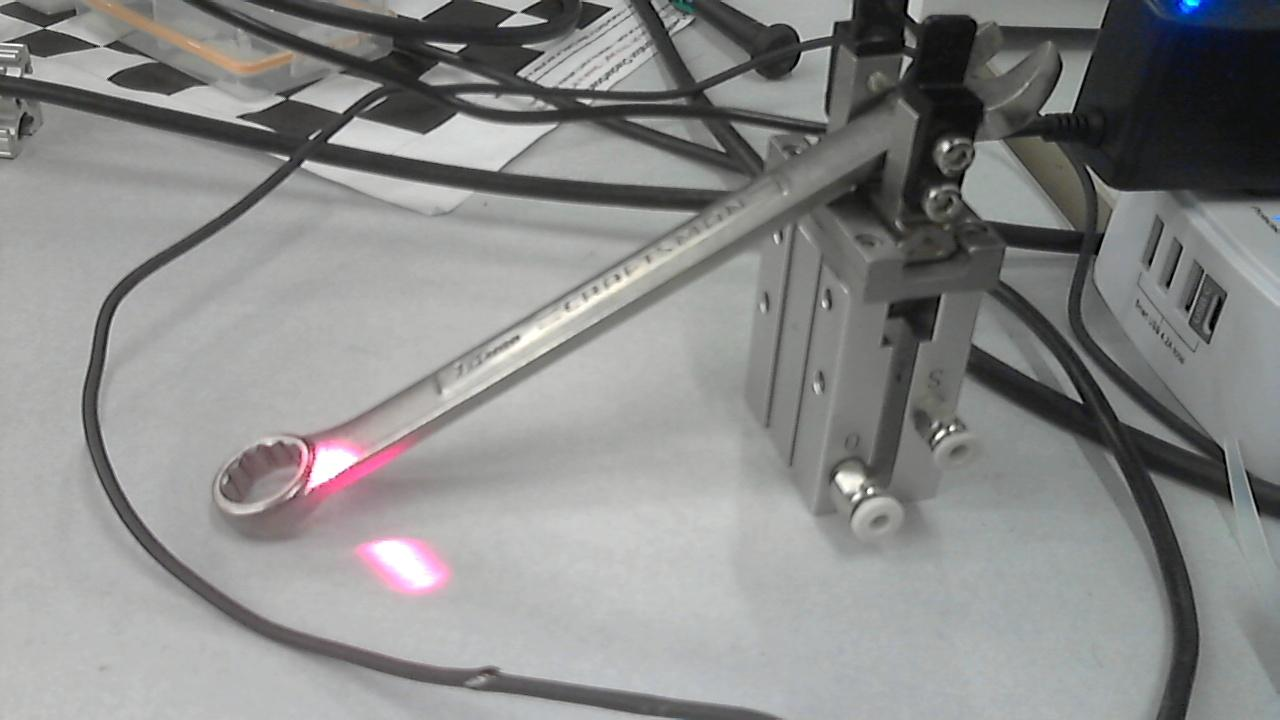Object combination wrench - Material metal- Pdfname faefasdffdaea: (308, 436, 420, 504)
